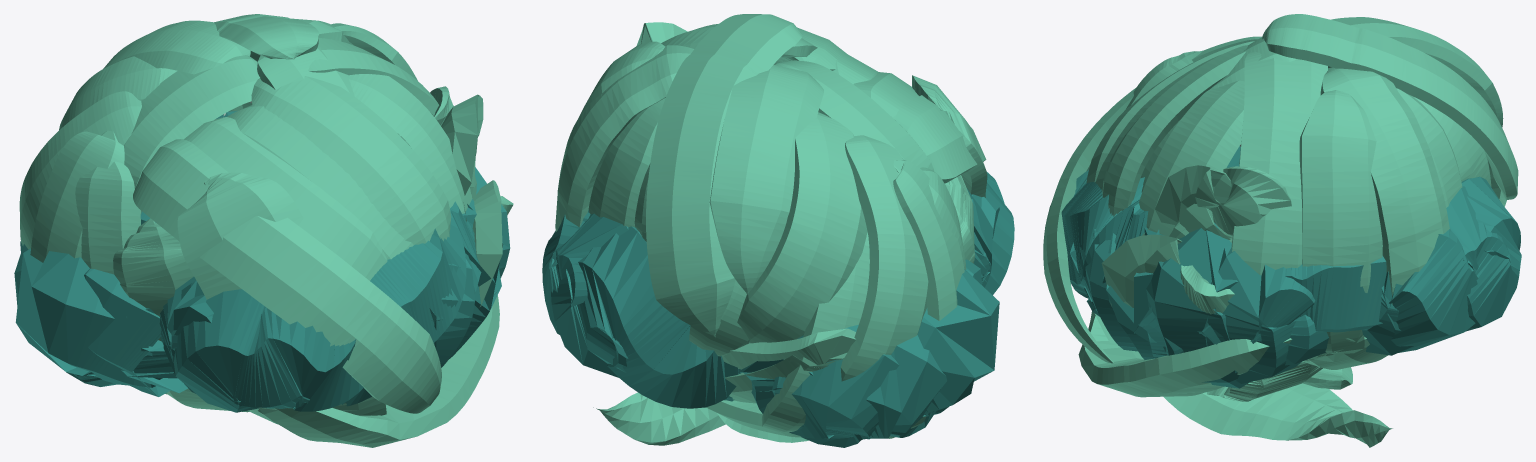
Rendered from Escenario1.fbx.
3 views of the same model, side by side, from view 1: azimuth 30°, elevation 25°; view 2: azimuth 150°, elevation 25°; view 3: azimuth 270°, elevation 25° (orthographic). The views are drawn at different scales.
Parts seen in each view (by area): view 1: NewLayer0; view 2: NewLayer0; view 3: NewLayer0.
Boxes of the visible parts, x1,y1,x2,y2 form: NewLayer0: [14, 14, 513, 447]; NewLayer0: [542, 14, 1014, 447]; NewLayer0: [1043, 14, 1521, 447].
Bounding box in the file's own units: 94.75 × 85.19 × 95.5.
